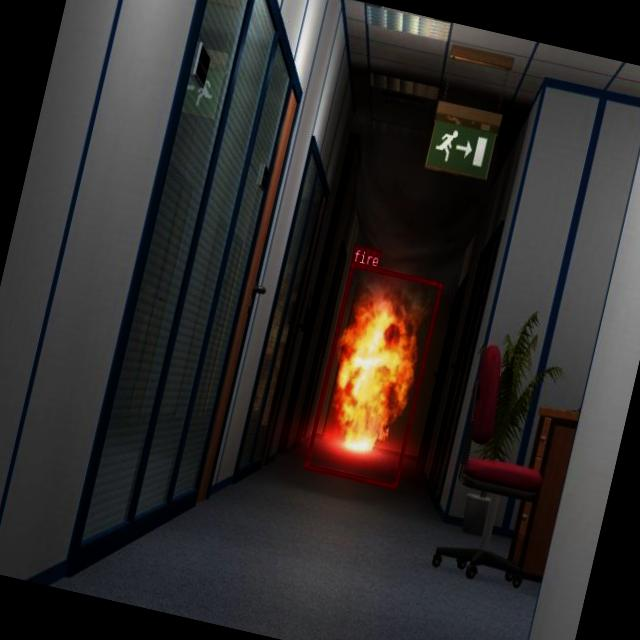fire: (303, 260, 442, 488)
